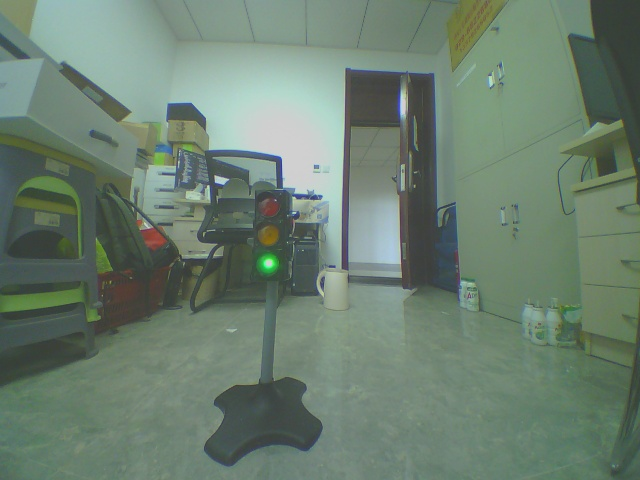Green: (245, 189, 307, 290)
